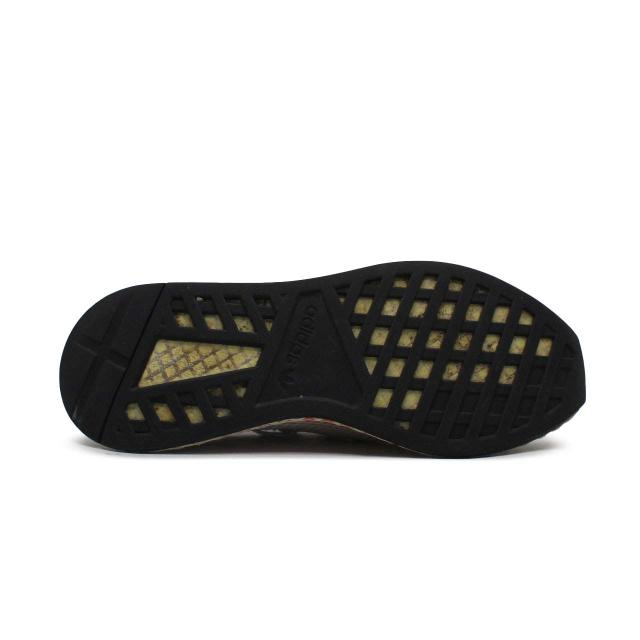outersole: (59, 262, 586, 453)
